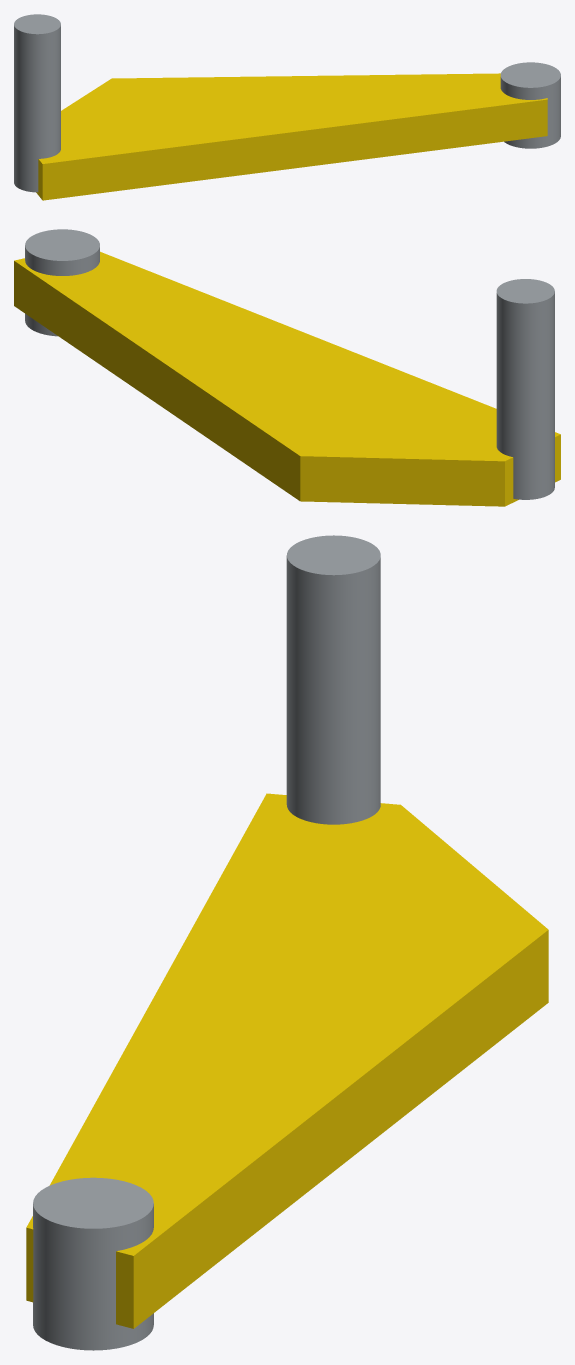
Rendered from elbow_link.obj.
The picture shows the model from 3 angles, top to bottom: view 1: azimuth 30°, elevation 25°; view 2: azimuth 150°, elevation 25°; view 3: azimuth 270°, elevation 25°; orthographic projection. The views are drawn at different scales.
Visible parts, largest first — view 1: level_plate, level_pin_lower, level_pin_upper; view 2: level_plate, level_pin_lower, level_pin_upper; view 3: level_plate, level_pin_lower, level_pin_upper.
Part boxes in pixels (x1,y1,x2,y2): level_plate: (36,73,547,200); level_pin_lower: (14,14,60,192); level_pin_upper: (500,62,560,148); level_plate: (14,251,560,506); level_pin_lower: (496,279,554,499); level_pin_upper: (25,229,99,336); level_plate: (26,793,548,1328); level_pin_lower: (286,535,380,824); level_pin_upper: (33,1177,153,1350).
Size of the model in its own units: 0.83 by 0.285 by 0.389.
